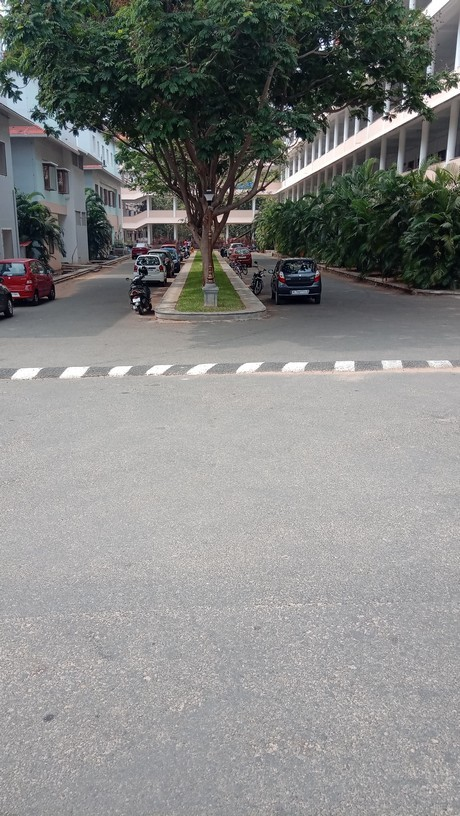bump: (1, 357, 459, 381)
